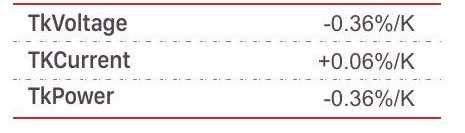table: (8, 1, 450, 127)
table column: (23, 3, 171, 118), (306, 4, 437, 117)
table row: (18, 43, 439, 77), (17, 7, 439, 39), (19, 83, 440, 113)
